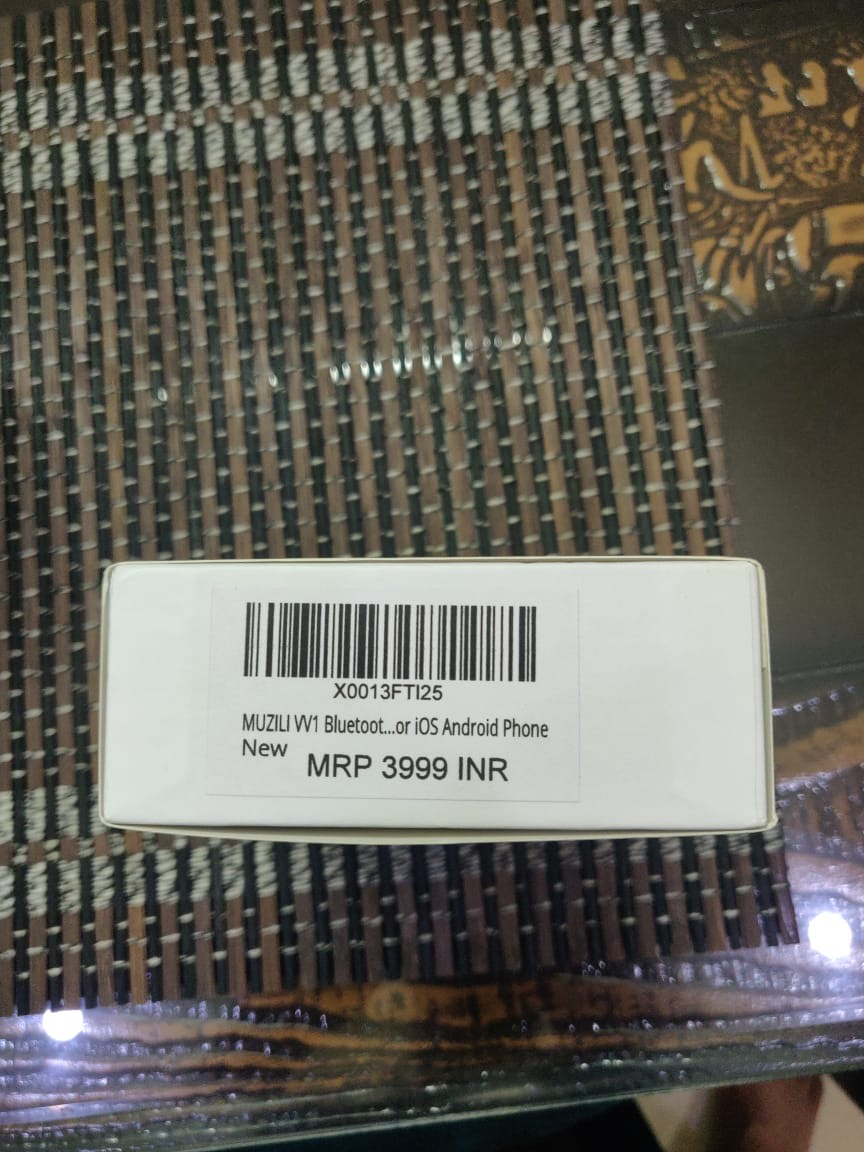barcode: (226, 576, 551, 708)
